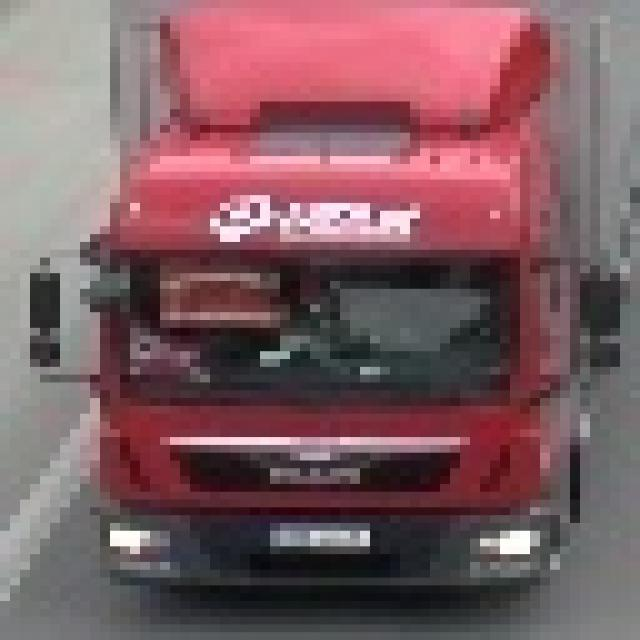truck: (30, 0, 640, 585)
